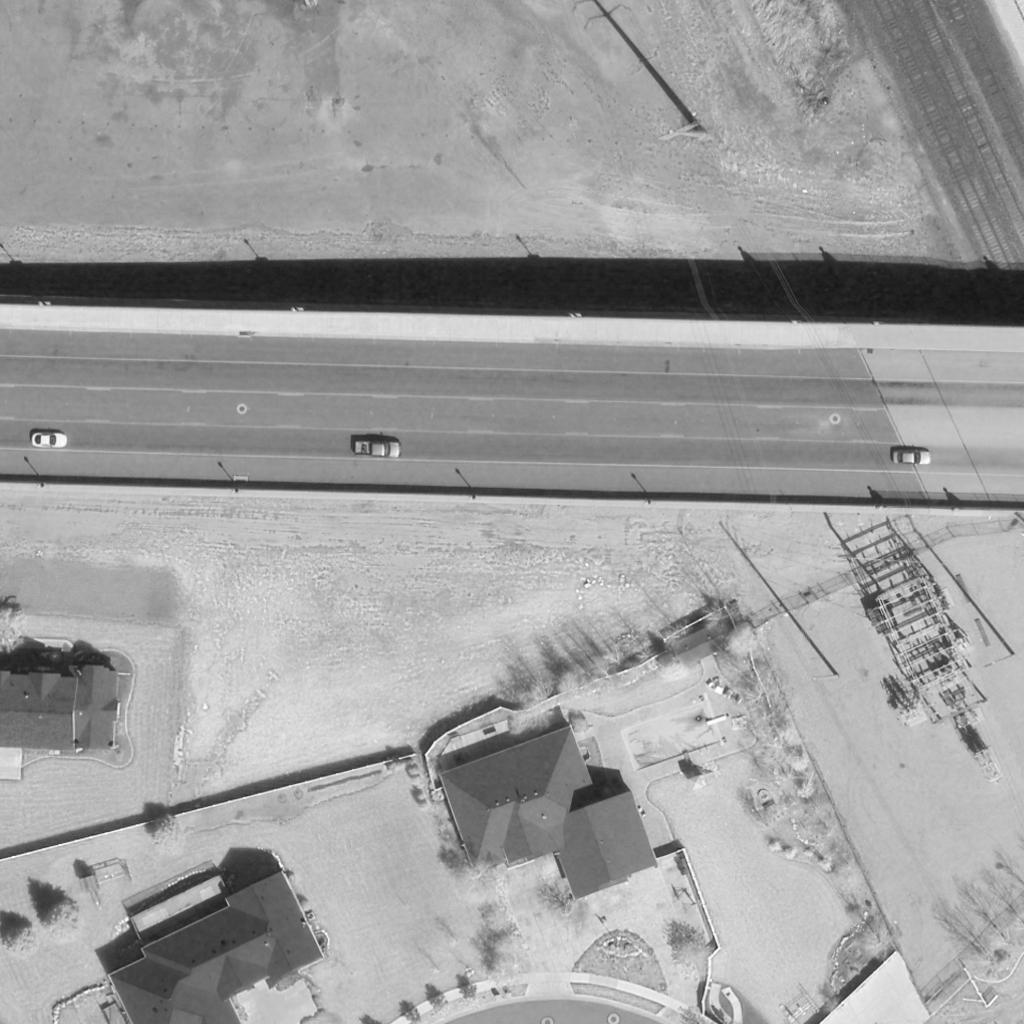vehicle: (354, 441, 402, 459), (30, 431, 68, 449), (893, 449, 931, 465)
